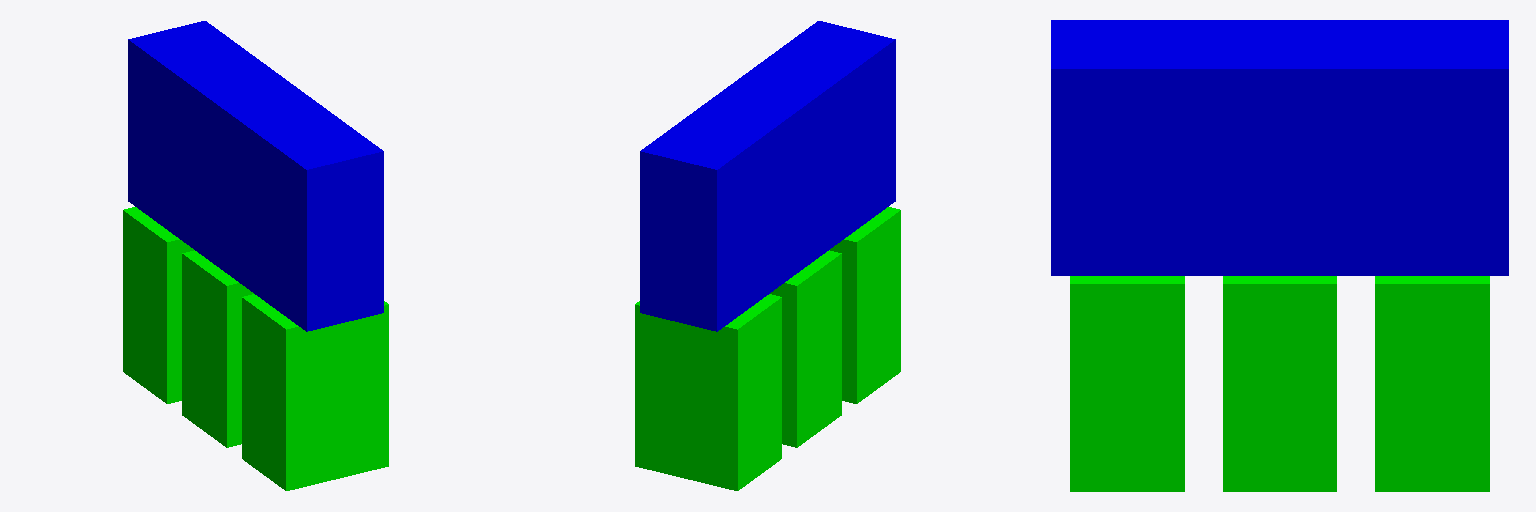
URDF robot description (robot):
<robot name = "robot">
    <link name="root">
        <inertial>
            <origin xyz="0.0 0.0 1.5" rpy="0 0 0"/>
            <mass value="1" />
            <inertia ixx="100" ixy="0" ixz="0" iyy="100" iyz="0" izz="100" />
        </inertial>
        <visual>
            <origin xyz="0.0 0.0 1.5" rpy="0 0 0"/>
            <geometry>
                <box size="0 0 0.0001" />
            </geometry>
            <material name="Green">
                <color rgba="0 1.0 0.0 1.0"/>
            </material>
        </visual>
        <collision>
            <origin xyz="0.0 0.0 1.5" rpy="0 0 0"/>
            <geometry>
                <box size="0 0 0.0001" />
            </geometry>
        </collision>
    </link>
    <joint name="root_000" type="revolute">
       <parent link="root"/>
       <child  link="000"/>
       <origin rpy="0 0 0" xyz="0.0 0.0 1.5" />
     <axis xyz="1 0 0"/>
       <limit effort="0.0" lower="-3.14159" upper="3.14159" velocity="0.0"/>
    </joint>
    <link name="000">
        <inertial>
            <origin xyz="0.0 0.2 0.0" rpy="0 0 0"/>
            <mass value="1" />
            <inertia ixx="100" ixy="0" ixz="0" iyy="100" iyz="0" izz="100" />
        </inertial>
        <visual>
            <origin xyz="0.0 0.2 0.0" rpy="0 0 0"/>
            <geometry>
                <box size="0.3 0.4 0.6" />
            </geometry>
            <material name="Blue">
                <color rgba="0 0.0 1.0 1.0"/>
            </material>
        </visual>
        <collision>
            <origin xyz="0.0 0.2 0.0" rpy="0 0 0"/>
            <geometry>
                <box size="0.3 0.4 0.6" />
            </geometry>
        </collision>
    </link>
    <joint name="000_010" type="revolute">
       <parent link="000"/>
       <child  link="010"/>
       <origin rpy="0 0 0" xyz="0.0 0.4 -0.0" />
     <axis xyz="0 1 0"/>
       <limit effort="0.0" lower="-3.14159" upper="3.14159" velocity="0.0"/>
    </joint>
    <link name="010">
        <inertial>
            <origin xyz="0.0 0.2 -0.0" rpy="0 0 0"/>
            <mass value="1" />
            <inertia ixx="100" ixy="0" ixz="0" iyy="100" iyz="0" izz="100" />
        </inertial>
        <visual>
            <origin xyz="0.0 0.2 -0.0" rpy="0 0 0"/>
            <geometry>
                <box size="0.3 0.4 0.6" />
            </geometry>
            <material name="Blue">
                <color rgba="0 0.0 1.0 1.0"/>
            </material>
        </visual>
        <collision>
            <origin xyz="0.0 0.2 -0.0" rpy="0 0 0"/>
            <geometry>
                <box size="0.3 0.4 0.6" />
            </geometry>
        </collision>
    </link>
    <joint name="010_020" type="revolute">
       <parent link="010"/>
       <child  link="020"/>
       <origin rpy="0 0 0" xyz="0.0 0.4 -0.0" />
     <axis xyz="0 1 0"/>
       <limit effort="0.0" lower="-3.14159" upper="3.14159" velocity="0.0"/>
    </joint>
    <link name="020">
        <inertial>
            <origin xyz="0.0 0.2 -0.0" rpy="0 0 0"/>
            <mass value="1" />
            <inertia ixx="100" ixy="0" ixz="0" iyy="100" iyz="0" izz="100" />
        </inertial>
        <visual>
            <origin xyz="0.0 0.2 -0.0" rpy="0 0 0"/>
            <geometry>
                <box size="0.3 0.4 0.6" />
            </geometry>
            <material name="Blue">
                <color rgba="0 0.0 1.0 1.0"/>
            </material>
        </visual>
        <collision>
            <origin xyz="0.0 0.2 -0.0" rpy="0 0 0"/>
            <geometry>
                <box size="0.3 0.4 0.6" />
            </geometry>
        </collision>
    </link>
    <joint name="020_020-100" type="revolute">
       <parent link="020"/>
       <child  link="020-100"/>
       <origin rpy="0 0 0" xyz="0.0 0.2 -0.3" />
     <axis xyz="0 0 1"/>
       <limit effort="0.0" lower="-3.14159" upper="3.14159" velocity="0.0"/>
    </joint>
    <link name="020-100">
        <inertial>
            <origin xyz="0.0 0.0 -0.1" rpy="0 0 0"/>
            <mass value="1" />
            <inertia ixx="100" ixy="0" ixz="0" iyy="100" iyz="0" izz="100" />
        </inertial>
        <visual>
            <origin xyz="0.0 0.0 -0.1" rpy="0 0 0"/>
            <geometry>
                <box size="0.4 0.3 0.2" />
            </geometry>
            <material name="Green">
                <color rgba="0 1.0 0.0 1.0"/>
            </material>
        </visual>
        <collision>
            <origin xyz="0.0 0.0 -0.1" rpy="0 0 0"/>
            <geometry>
                <box size="0.4 0.3 0.2" />
            </geometry>
        </collision>
    </link>
    <joint name="020-100_020-110" type="revolute">
       <parent link="020-100"/>
       <child  link="020-110"/>
       <origin rpy="0 0 0" xyz="0.0 0.0 -0.2" />
     <axis xyz="0 0 1"/>
       <limit effort="0.0" lower="-3.14159" upper="3.14159" velocity="0.0"/>
    </joint>
    <link name="020-110">
        <inertial>
            <origin xyz="0.0 0.0 -0.1" rpy="0 0 0"/>
            <mass value="1" />
            <inertia ixx="100" ixy="0" ixz="0" iyy="100" iyz="0" izz="100" />
        </inertial>
        <visual>
            <origin xyz="0.0 0.0 -0.1" rpy="0 0 0"/>
            <geometry>
                <box size="0.4 0.3 0.2" />
            </geometry>
            <material name="Green">
                <color rgba="0 1.0 0.0 1.0"/>
            </material>
        </visual>
        <collision>
            <origin xyz="0.0 0.0 -0.1" rpy="0 0 0"/>
            <geometry>
                <box size="0.4 0.3 0.2" />
            </geometry>
        </collision>
    </link>
    <joint name="020-110_020-120" type="revolute">
       <parent link="020-110"/>
       <child  link="020-120"/>
       <origin rpy="0 0 0" xyz="0.0 0.0 -0.2" />
     <axis xyz="0 0 1"/>
       <limit effort="0.0" lower="-3.14159" upper="3.14159" velocity="0.0"/>
    </joint>
    <link name="020-120">
        <inertial>
            <origin xyz="0.0 0.0 -0.1" rpy="0 0 0"/>
            <mass value="1" />
            <inertia ixx="100" ixy="0" ixz="0" iyy="100" iyz="0" izz="100" />
        </inertial>
        <visual>
            <origin xyz="0.0 0.0 -0.1" rpy="0 0 0"/>
            <geometry>
                <box size="0.4 0.3 0.2" />
            </geometry>
            <material name="Green">
                <color rgba="0 1.0 0.0 1.0"/>
            </material>
        </visual>
        <collision>
            <origin xyz="0.0 0.0 -0.1" rpy="0 0 0"/>
            <geometry>
                <box size="0.4 0.3 0.2" />
            </geometry>
        </collision>
    </link>
    <joint name="010_010-100" type="revolute">
       <parent link="010"/>
       <child  link="010-100"/>
       <origin rpy="0 0 0" xyz="0.0 0.2 -0.3" />
     <axis xyz="0 0 1"/>
       <limit effort="0.0" lower="-3.14159" upper="3.14159" velocity="0.0"/>
    </joint>
    <link name="010-100">
        <inertial>
            <origin xyz="0.0 0.0 -0.1" rpy="0 0 0"/>
            <mass value="1" />
            <inertia ixx="100" ixy="0" ixz="0" iyy="100" iyz="0" izz="100" />
        </inertial>
        <visual>
            <origin xyz="0.0 0.0 -0.1" rpy="0 0 0"/>
            <geometry>
                <box size="0.4 0.3 0.2" />
            </geometry>
            <material name="Green">
                <color rgba="0 1.0 0.0 1.0"/>
            </material>
        </visual>
        <collision>
            <origin xyz="0.0 0.0 -0.1" rpy="0 0 0"/>
            <geometry>
                <box size="0.4 0.3 0.2" />
            </geometry>
        </collision>
    </link>
    <joint name="010-100_010-110" type="revolute">
       <parent link="010-100"/>
       <child  link="010-110"/>
       <origin rpy="0 0 0" xyz="0.0 0.0 -0.2" />
     <axis xyz="0 0 1"/>
       <limit effort="0.0" lower="-3.14159" upper="3.14159" velocity="0.0"/>
    </joint>
    <link name="010-110">
        <inertial>
            <origin xyz="0.0 0.0 -0.1" rpy="0 0 0"/>
            <mass value="1" />
            <inertia ixx="100" ixy="0" ixz="0" iyy="100" iyz="0" izz="100" />
        </inertial>
        <visual>
            <origin xyz="0.0 0.0 -0.1" rpy="0 0 0"/>
            <geometry>
                <box size="0.4 0.3 0.2" />
            </geometry>
            <material name="Green">
                <color rgba="0 1.0 0.0 1.0"/>
            </material>
        </visual>
        <collision>
            <origin xyz="0.0 0.0 -0.1" rpy="0 0 0"/>
            <geometry>
                <box size="0.4 0.3 0.2" />
            </geometry>
        </collision>
    </link>
    <joint name="010-110_010-120" type="revolute">
       <parent link="010-110"/>
       <child  link="010-120"/>
       <origin rpy="0 0 0" xyz="0.0 0.0 -0.2" />
     <axis xyz="0 0 1"/>
       <limit effort="0.0" lower="-3.14159" upper="3.14159" velocity="0.0"/>
    </joint>
    <link name="010-120">
        <inertial>
            <origin xyz="0.0 0.0 -0.1" rpy="0 0 0"/>
            <mass value="1" />
            <inertia ixx="100" ixy="0" ixz="0" iyy="100" iyz="0" izz="100" />
        </inertial>
        <visual>
            <origin xyz="0.0 0.0 -0.1" rpy="0 0 0"/>
            <geometry>
                <box size="0.4 0.3 0.2" />
            </geometry>
            <material name="Green">
                <color rgba="0 1.0 0.0 1.0"/>
            </material>
        </visual>
        <collision>
            <origin xyz="0.0 0.0 -0.1" rpy="0 0 0"/>
            <geometry>
                <box size="0.4 0.3 0.2" />
            </geometry>
        </collision>
    </link>
    <joint name="000_000-100" type="revolute">
       <parent link="000"/>
       <child  link="000-100"/>
       <origin rpy="0 0 0" xyz="0.0 0.2 -0.3" />
     <axis xyz="0 0 1"/>
       <limit effort="0.0" lower="-3.14159" upper="3.14159" velocity="0.0"/>
    </joint>
    <link name="000-100">
        <inertial>
            <origin xyz="0.0 0.0 -0.1" rpy="0 0 0"/>
            <mass value="1" />
            <inertia ixx="100" ixy="0" ixz="0" iyy="100" iyz="0" izz="100" />
        </inertial>
        <visual>
            <origin xyz="0.0 0.0 -0.1" rpy="0 0 0"/>
            <geometry>
                <box size="0.4 0.3 0.2" />
            </geometry>
            <material name="Green">
                <color rgba="0 1.0 0.0 1.0"/>
            </material>
        </visual>
        <collision>
            <origin xyz="0.0 0.0 -0.1" rpy="0 0 0"/>
            <geometry>
                <box size="0.4 0.3 0.2" />
            </geometry>
        </collision>
    </link>
    <joint name="000-100_000-110" type="revolute">
       <parent link="000-100"/>
       <child  link="000-110"/>
       <origin rpy="0 0 0" xyz="0.0 0.0 -0.2" />
     <axis xyz="0 0 1"/>
       <limit effort="0.0" lower="-3.14159" upper="3.14159" velocity="0.0"/>
    </joint>
    <link name="000-110">
        <inertial>
            <origin xyz="0.0 0.0 -0.1" rpy="0 0 0"/>
            <mass value="1" />
            <inertia ixx="100" ixy="0" ixz="0" iyy="100" iyz="0" izz="100" />
        </inertial>
        <visual>
            <origin xyz="0.0 0.0 -0.1" rpy="0 0 0"/>
            <geometry>
                <box size="0.4 0.3 0.2" />
            </geometry>
            <material name="Green">
                <color rgba="0 1.0 0.0 1.0"/>
            </material>
        </visual>
        <collision>
            <origin xyz="0.0 0.0 -0.1" rpy="0 0 0"/>
            <geometry>
                <box size="0.4 0.3 0.2" />
            </geometry>
        </collision>
    </link>
    <joint name="000-110_000-120" type="revolute">
       <parent link="000-110"/>
       <child  link="000-120"/>
       <origin rpy="0 0 0" xyz="0.0 0.0 -0.2" />
     <axis xyz="0 0 1"/>
       <limit effort="0.0" lower="-3.14159" upper="3.14159" velocity="0.0"/>
    </joint>
    <link name="000-120">
        <inertial>
            <origin xyz="0.0 0.0 -0.1" rpy="0 0 0"/>
            <mass value="1" />
            <inertia ixx="100" ixy="0" ixz="0" iyy="100" iyz="0" izz="100" />
        </inertial>
        <visual>
            <origin xyz="0.0 0.0 -0.1" rpy="0 0 0"/>
            <geometry>
                <box size="0.4 0.3 0.2" />
            </geometry>
            <material name="Green">
                <color rgba="0 1.0 0.0 1.0"/>
            </material>
        </visual>
        <collision>
            <origin xyz="0.0 0.0 -0.1" rpy="0 0 0"/>
            <geometry>
                <box size="0.4 0.3 0.2" />
            </geometry>
        </collision>
    </link>
</robot>

--- Facts derived from the render (not from the file) ---
Views: 3 orthographic renders of the robot side by side, from view 1: azimuth 30°, elevation 25°; view 2: azimuth 150°, elevation 25°; view 3: azimuth 270°, elevation 25°.
Model robot with 13 links and 12 joints (12 revolute), rooted at root, posed every joint at zero.
Visible links, largest first — view 1: 000, 020, 010, 000-110, 000-120, 000-100, 010-100, 020-100, 010-110, 010-120, 020-120, 020-110; view 2: 020, 000, 010, 020-110, 020-120, 020-100, 010-100, 000-100, 010-110, 010-120, 000-120, 000-110; view 3: 000, 020, 010, 020-100, 000-100, 010-100, 020-120, 000-120, 010-120, 020-110, 000-110, 010-110.
Link boxes in pixels (x1,y1,x2,y2): 000: (247,108,383,331); 020: (128,21,263,244); 010: (188,64,323,287); 000-110: (242,352,388,437); 000-120: (242,406,388,490); 000-100: (242,294,388,383); 010-100: (182,250,253,339); 020-100: (123,207,193,295); 010-110: (182,308,241,393); 010-120: (182,362,241,447); 020-120: (123,318,181,403); 020-110: (123,264,181,349); 020: (640,108,776,331); 000: (760,21,895,244); 010: (700,64,835,287); 020-110: (635,352,781,437); 020-120: (635,406,781,490); 020-100: (635,294,781,383); 010-100: (770,250,841,339); 000-100: (830,207,900,295); 010-110: (782,308,841,393); 010-120: (782,362,841,447); 000-120: (842,318,900,403); 000-110: (842,264,900,349); 000: (1051,20,1203,275); 020: (1356,20,1508,275); 010: (1204,20,1355,275); 020-100: (1375,276,1489,352); 000-100: (1070,276,1184,352); 010-100: (1223,276,1336,352); 020-120: (1375,422,1489,491); 000-120: (1070,422,1184,491); 010-120: (1223,422,1336,491); 020-110: (1375,353,1489,421); 000-110: (1070,353,1184,421); 010-110: (1223,353,1336,421).
Size in the robot's own frame: 0.4 by 1.2 by 1.2 metres.
Geometry: primitives only (box / cylinder / sphere), no mesh files.